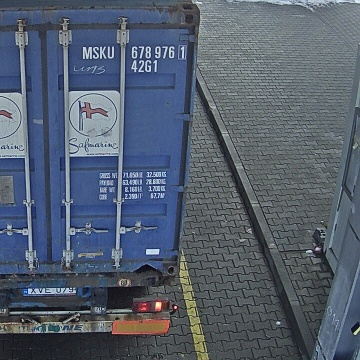serial_id: (83, 46, 185, 58)
